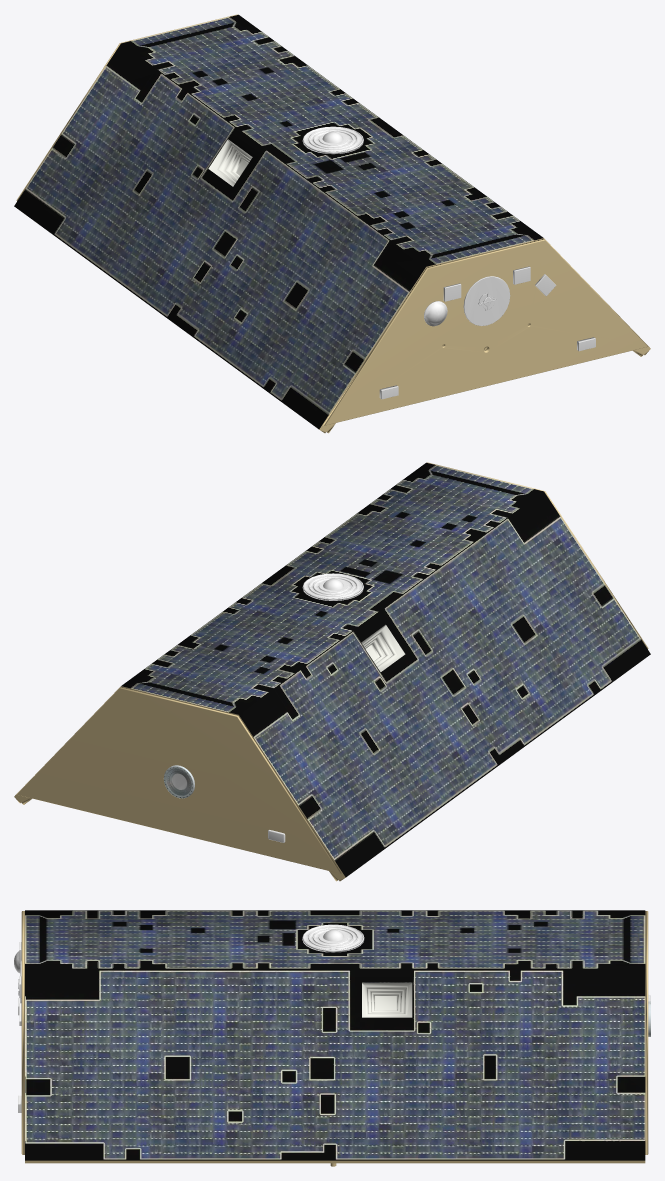
The model's file is grace.glb.
3 renders of one model, top to bottom at view 1: azimuth 30°, elevation 25°; view 2: azimuth 150°, elevation 25°; view 3: azimuth 270°, elevation 25°, orthographic.
Visible parts, largest first — view 1: Mesh .006, Mesh .001, Mesh (×2), Mesh .004, Mesh .002; view 2: Mesh .006, Mesh .001, Mesh, Mesh .002; view 3: Mesh .006, Mesh .001, Mesh .002, Mesh.
Part boxes in pixels (box(x1,y1,x2,y2)): Mesh .006: box(14, 14, 543, 429); Mesh .001: box(16, 14, 650, 433); Mesh (×2): box(302, 126, 510, 326); Mesh .004: box(379, 266, 595, 399); Mesh .002: box(208, 139, 252, 186); Mesh .006: box(121, 462, 650, 877); Mesh .001: box(14, 462, 648, 881); Mesh: box(302, 573, 363, 600); Mesh .002: box(361, 624, 405, 671); Mesh .006: box(25, 910, 650, 1160); Mesh .001: box(21, 911, 648, 1163); Mesh .002: box(362, 982, 412, 1017); Mesh: box(302, 924, 364, 952).
Size of the model in its own units: 4.81 by 3.2 by 7.87.
9 materials, 2 textured.
